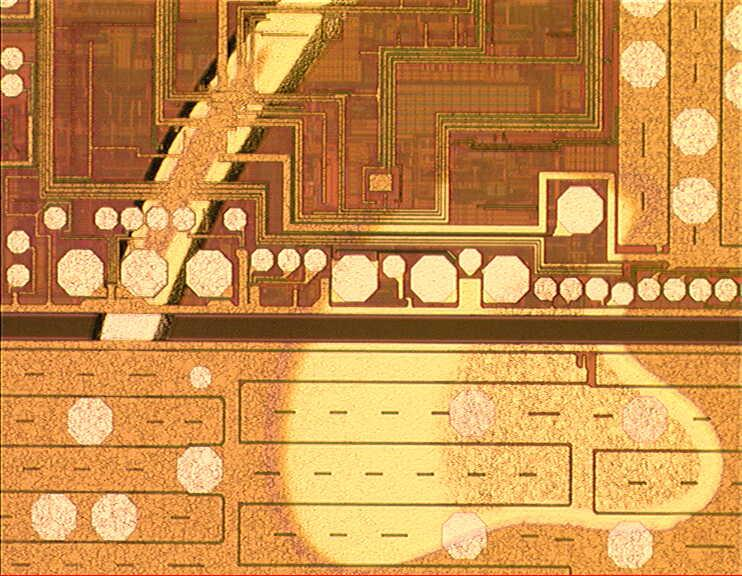BLOCK ETCH: (87, 1, 730, 576)
